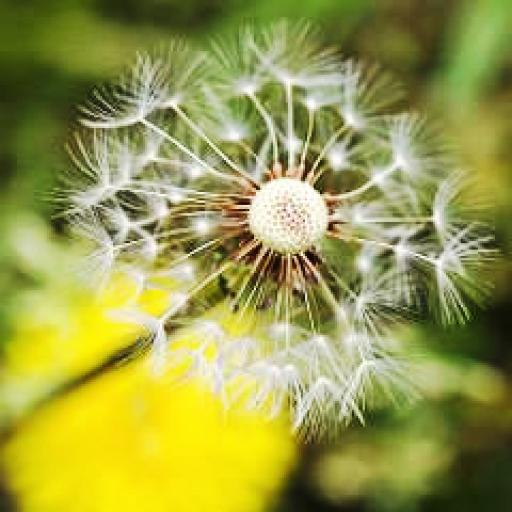dandelion: (60, 22, 490, 436)
